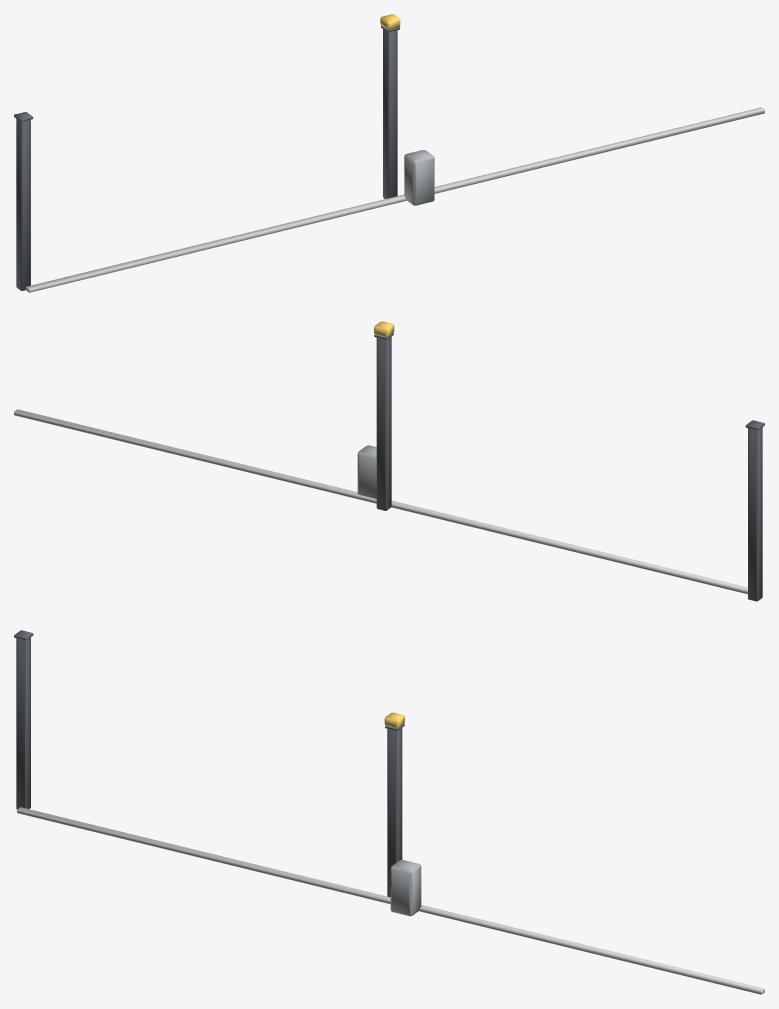
The model's file is gate_posts_6.glb.
The picture shows the model from 3 angles, top to bottom: view 1: azimuth 30°, elevation 25°; view 2: azimuth 150°, elevation 25°; view 3: azimuth 330°, elevation 25°; orthographic projection.
Parts seen in each view (by area): view 1: Body; view 2: Body; view 3: Body.
Boxes of the visible parts, x1,y1,x2,y2 form: Body: [14, 14, 764, 292]; Body: [14, 321, 764, 601]; Body: [14, 630, 764, 994].
Size of the model in its own units: 11.85 by 2.77 by 0.51.
